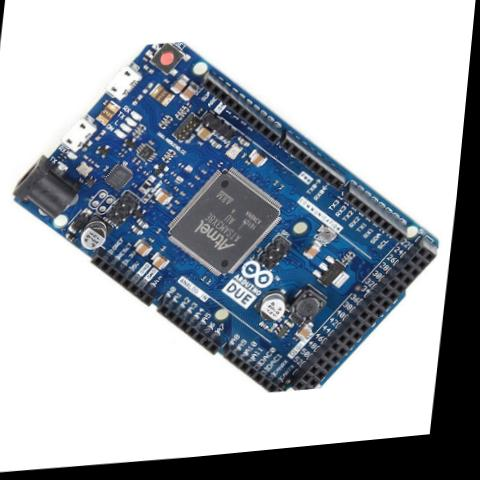Arduino-Due: (0, 20, 468, 422)
